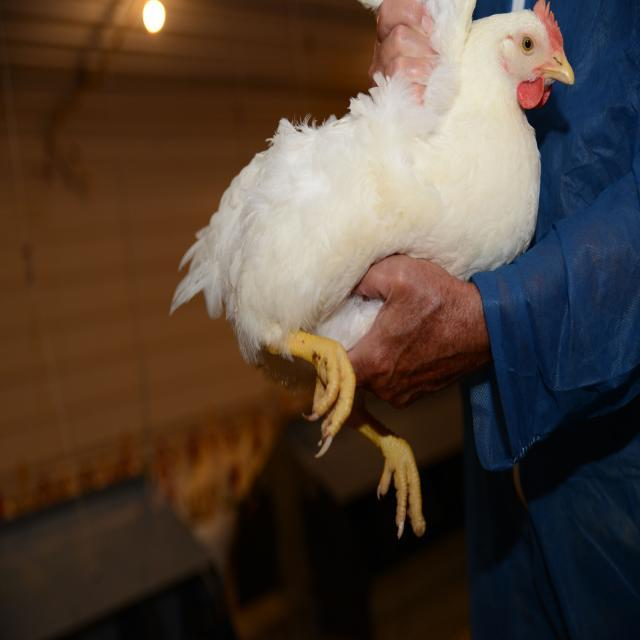AbNormal: (166, 1, 574, 540)
